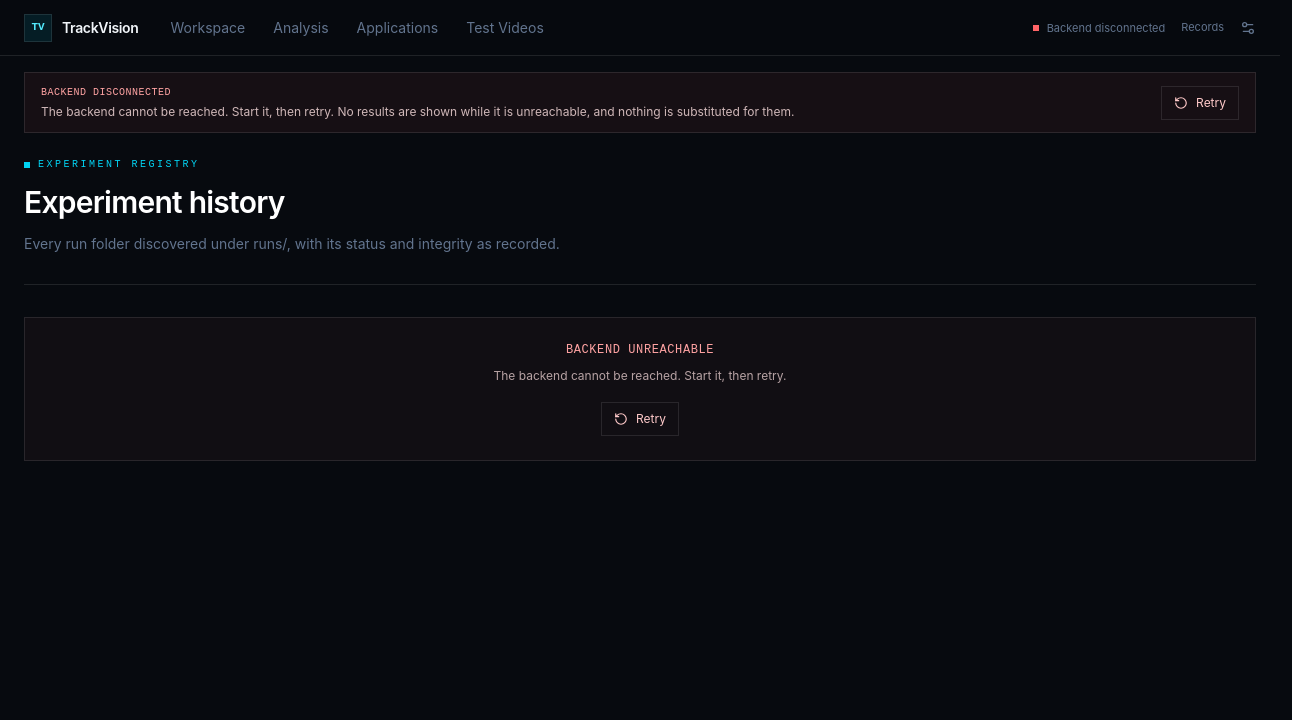
backend connection › recovers when retry finds the backend
Click the button "Retry" below "Backend unreachable".
click(640, 419)  # box [601, 402, 679, 436]
(page scrolled)
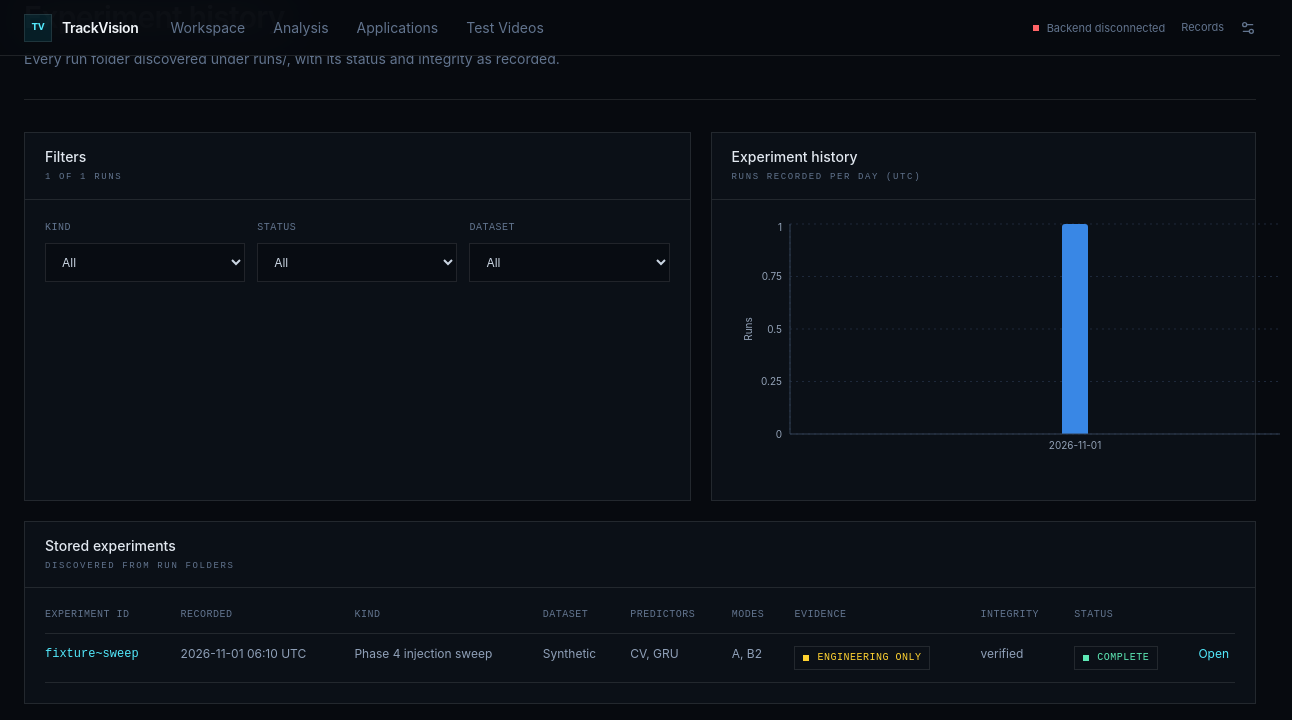
Check: the text "fixture~sweep" is shown, box [45, 647, 139, 661]
